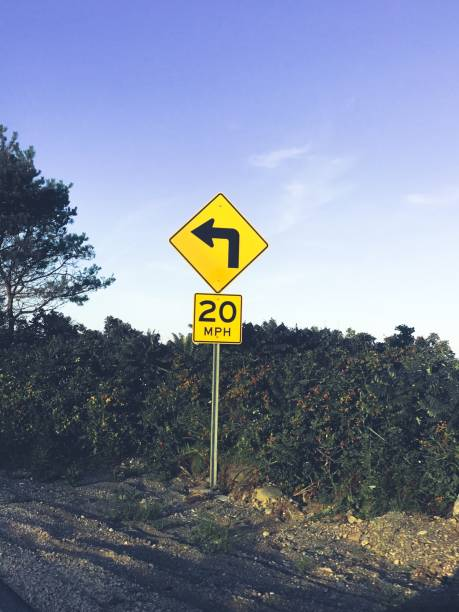left turn: (169, 193, 268, 292)
